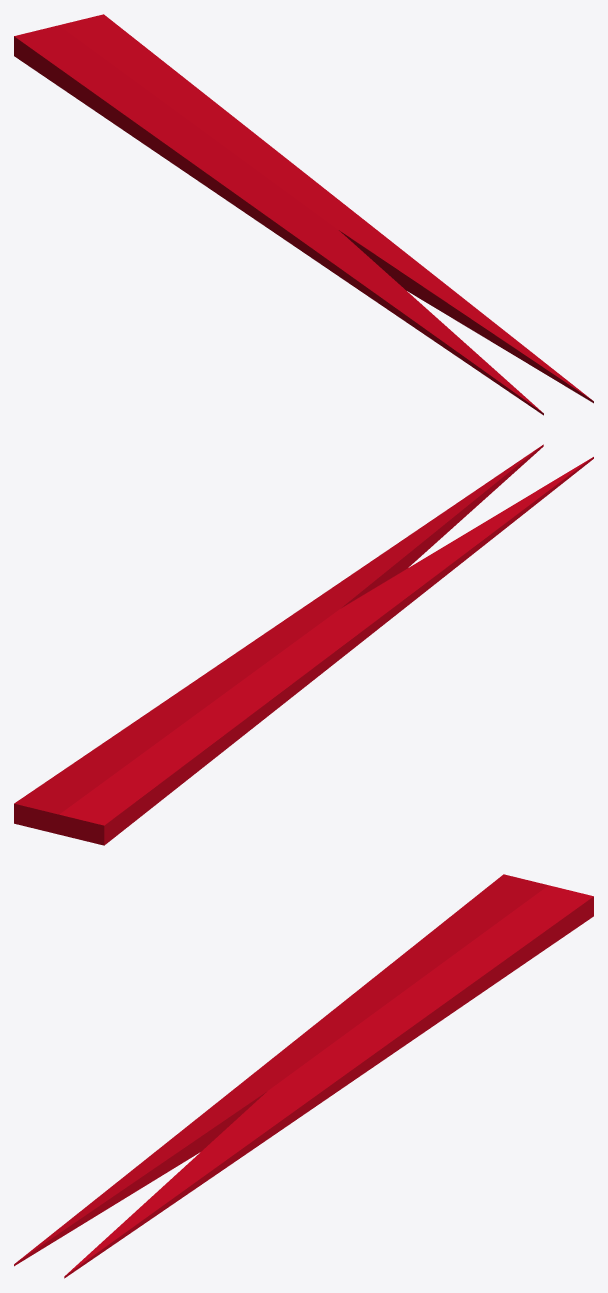
Rendered from tongue.glb.
3 views of the same model, one above another, from view 1: azimuth 30°, elevation 25°; view 2: azimuth 150°, elevation 25°; view 3: azimuth 330°, elevation 25° (orthographic).
Visible parts, largest first — view 1: tongue.001; view 2: tongue.001; view 3: tongue.001.
Part boxes in pixels (<box>): tongue.001: <box>14,14,593,415</box>; tongue.001: <box>14,444,593,845</box>; tongue.001: <box>14,874,593,1278</box>.
Bounding box in the file's own units: 0.085 × 0.018 × 0.8335.
